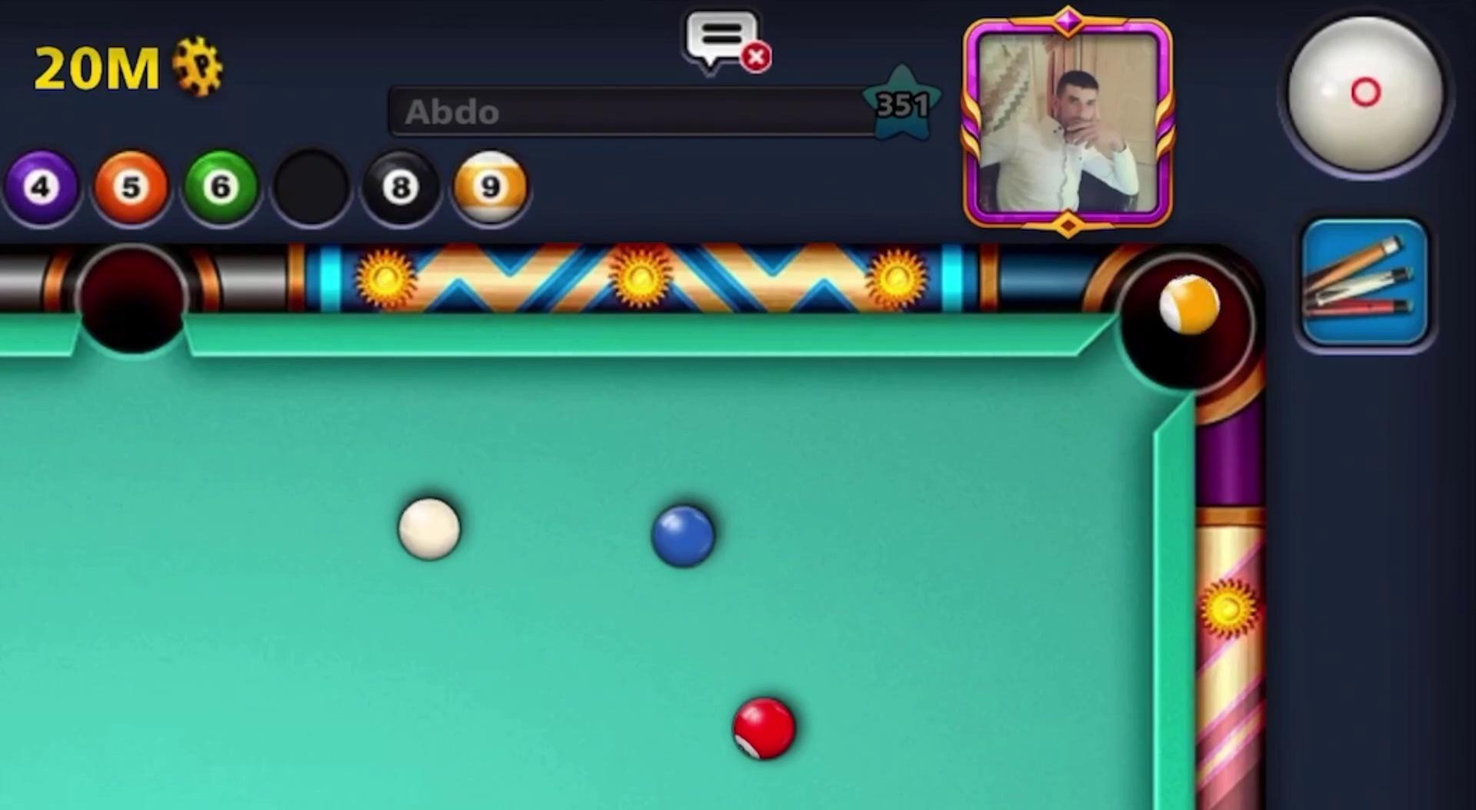Ball: (1150, 263, 1227, 345), (646, 497, 727, 573), (727, 692, 804, 770)
Hole: (1070, 227, 1271, 433), (62, 229, 197, 372)
Play_Area: (0, 356, 1151, 808)
Spin: (1253, 0, 1468, 201)
White: (387, 489, 473, 566)
